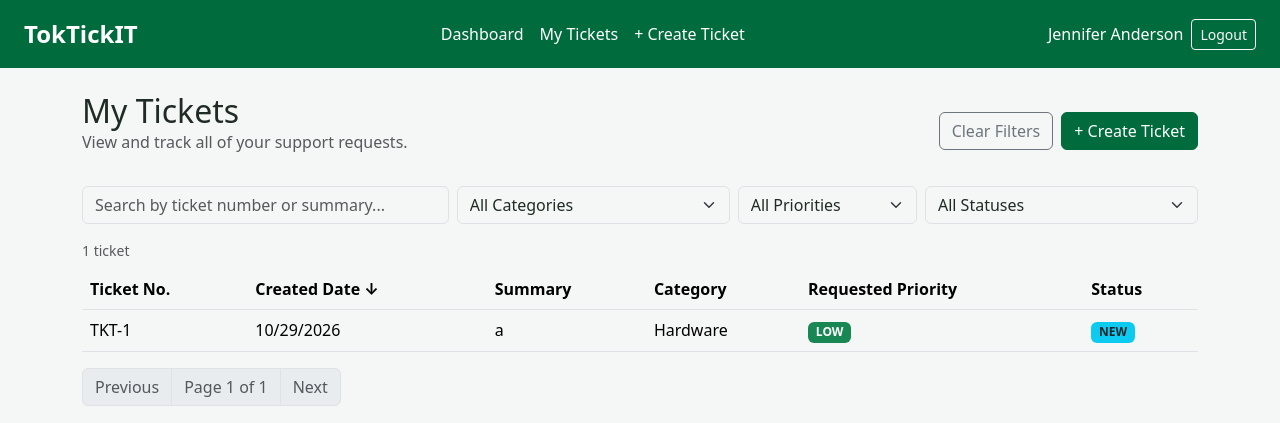
Test: MyTickets › shows no-results state when a search matches nothing (UI-07)
Expected: the text "TKT-1" is shown, [82, 310, 247, 351]
In the field with placeholder "Search by ticket number or summary...": (265, 205) [82, 186, 449, 224], type "nomatch"
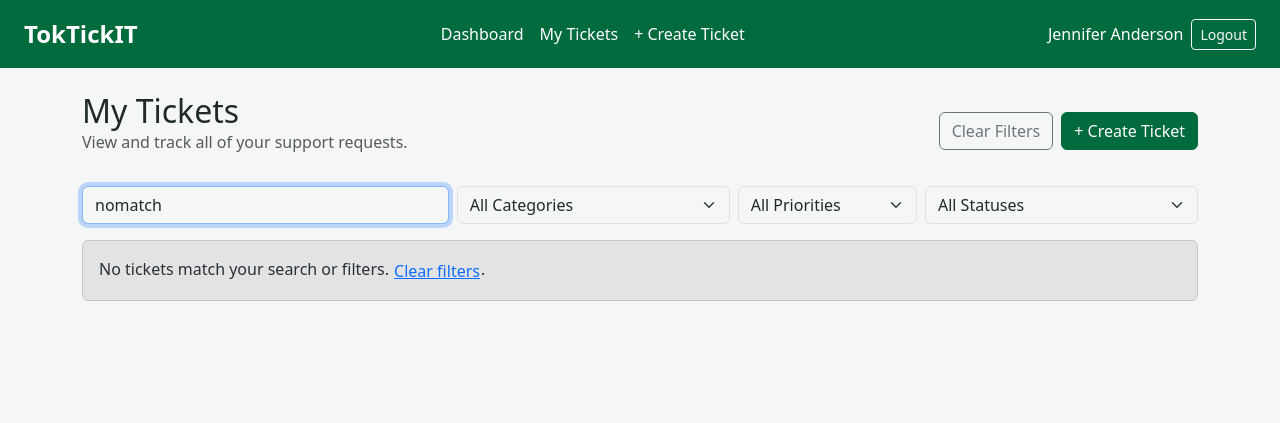
Now the text "No tickets match your search or filters. Clear filters ." is shown, box [82, 240, 1198, 301]
